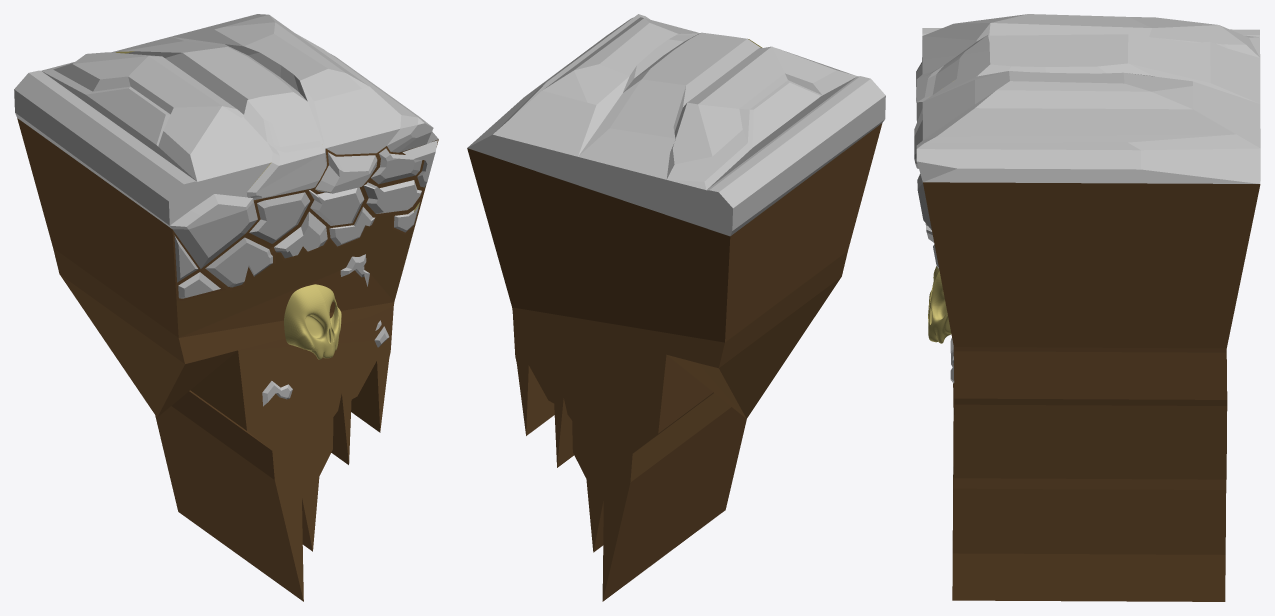
File: PlatformShortSpike.fbx
3 renders of one model, left to right at view 1: azimuth 30°, elevation 25°; view 2: azimuth 150°, elevation 25°; view 3: azimuth 270°, elevation 25°, orthographic. The views are drawn at different scales.
Parts seen in each view (by area): view 1: Platform_Short_Spike; view 2: Platform_Short_Spike; view 3: Platform_Short_Spike.
Part boxes in pixels (x1,y1,x2,y2): Platform_Short_Spike: [14, 14, 438, 601]; Platform_Short_Spike: [467, 14, 885, 601]; Platform_Short_Spike: [914, 14, 1260, 601].
Size of the model in its own units: 281 by 499 by 286.
